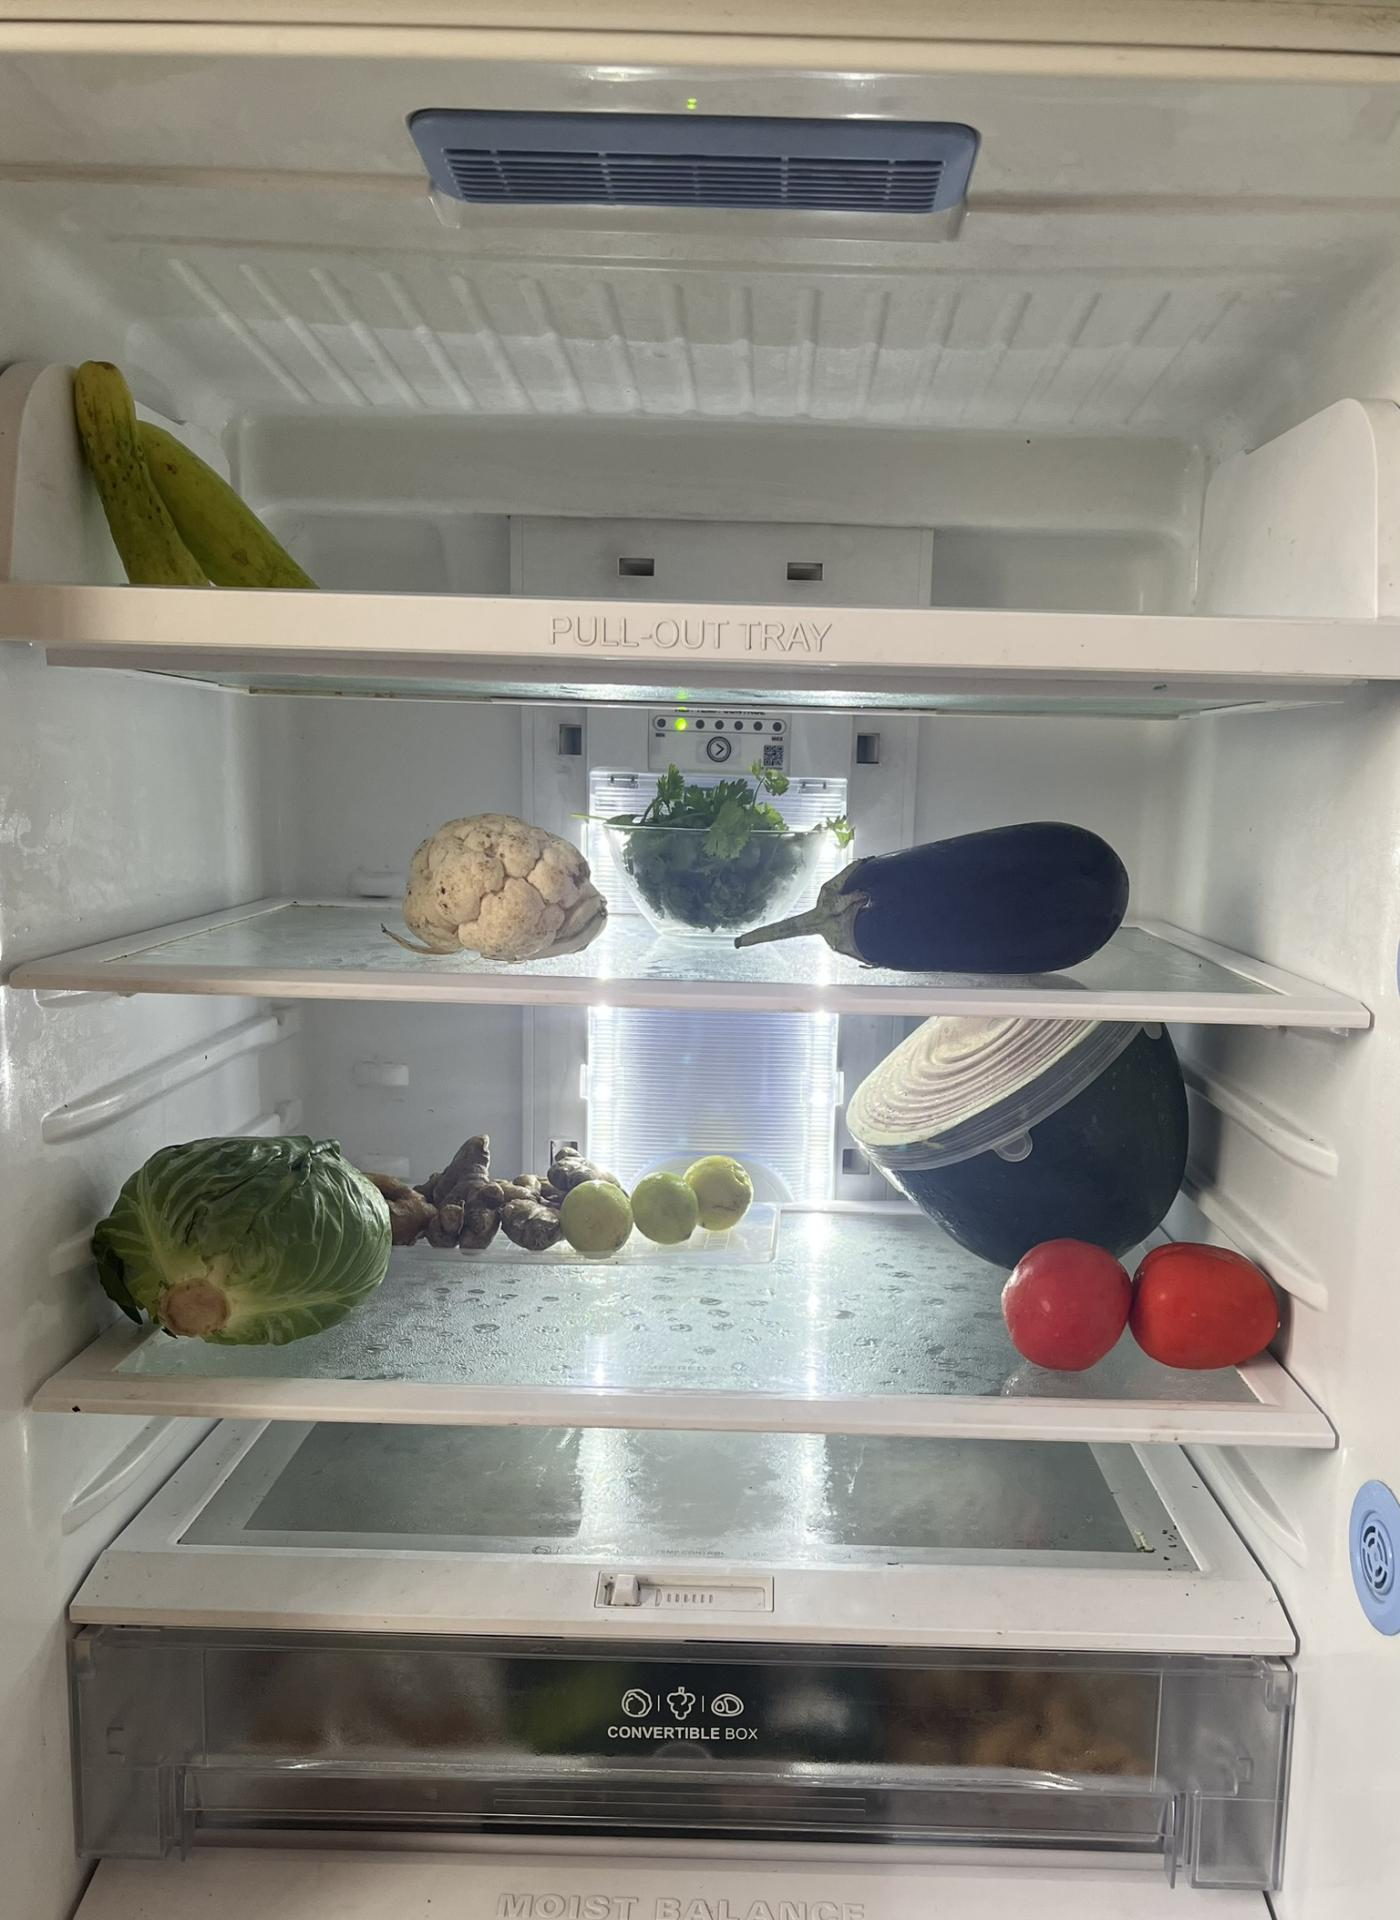brinjal: (734, 820, 1145, 972)
cabbage: (103, 1134, 392, 1343)
cauliflower: (395, 808, 604, 963)
coriander: (625, 778, 844, 932)
cucumber: (69, 344, 319, 587)
ginger: (377, 1128, 587, 1258)
lemon: (561, 1140, 763, 1252)
tomato: (1003, 1234, 1276, 1365)
watermelon: (854, 1012, 1199, 1257)
